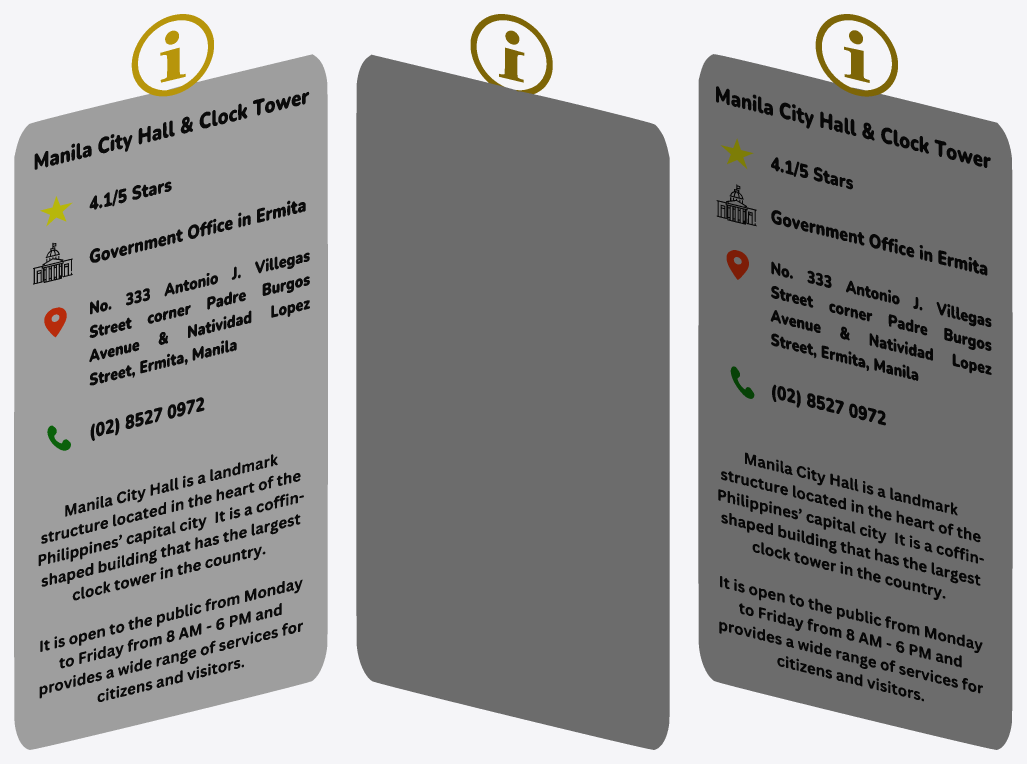
Rendered from MCH-1-CONTAINER.fbx.
3 views of the same model, side by side, from view 1: azimuth 30°, elevation 25°; view 2: azimuth 150°, elevation 25°; view 3: azimuth 330°, elevation 25° (orthographic).
Parts seen in each view (by area): view 1: Curve.001; view 2: Curve.001; view 3: Curve.001.
Part boxes in pixels (<box>): Curve.001: <box>14,14,327,749</box>; Curve.001: <box>356,14,669,749</box>; Curve.001: <box>698,14,1012,749</box>.
Bounding box in the file's own units: 21.09 × 45.04 × 0.2694.
